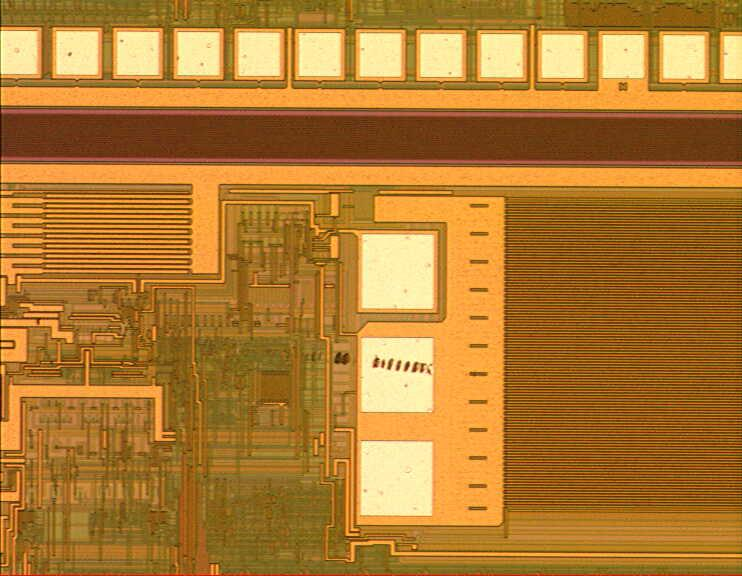SCRATCH: (147, 318, 445, 388)
